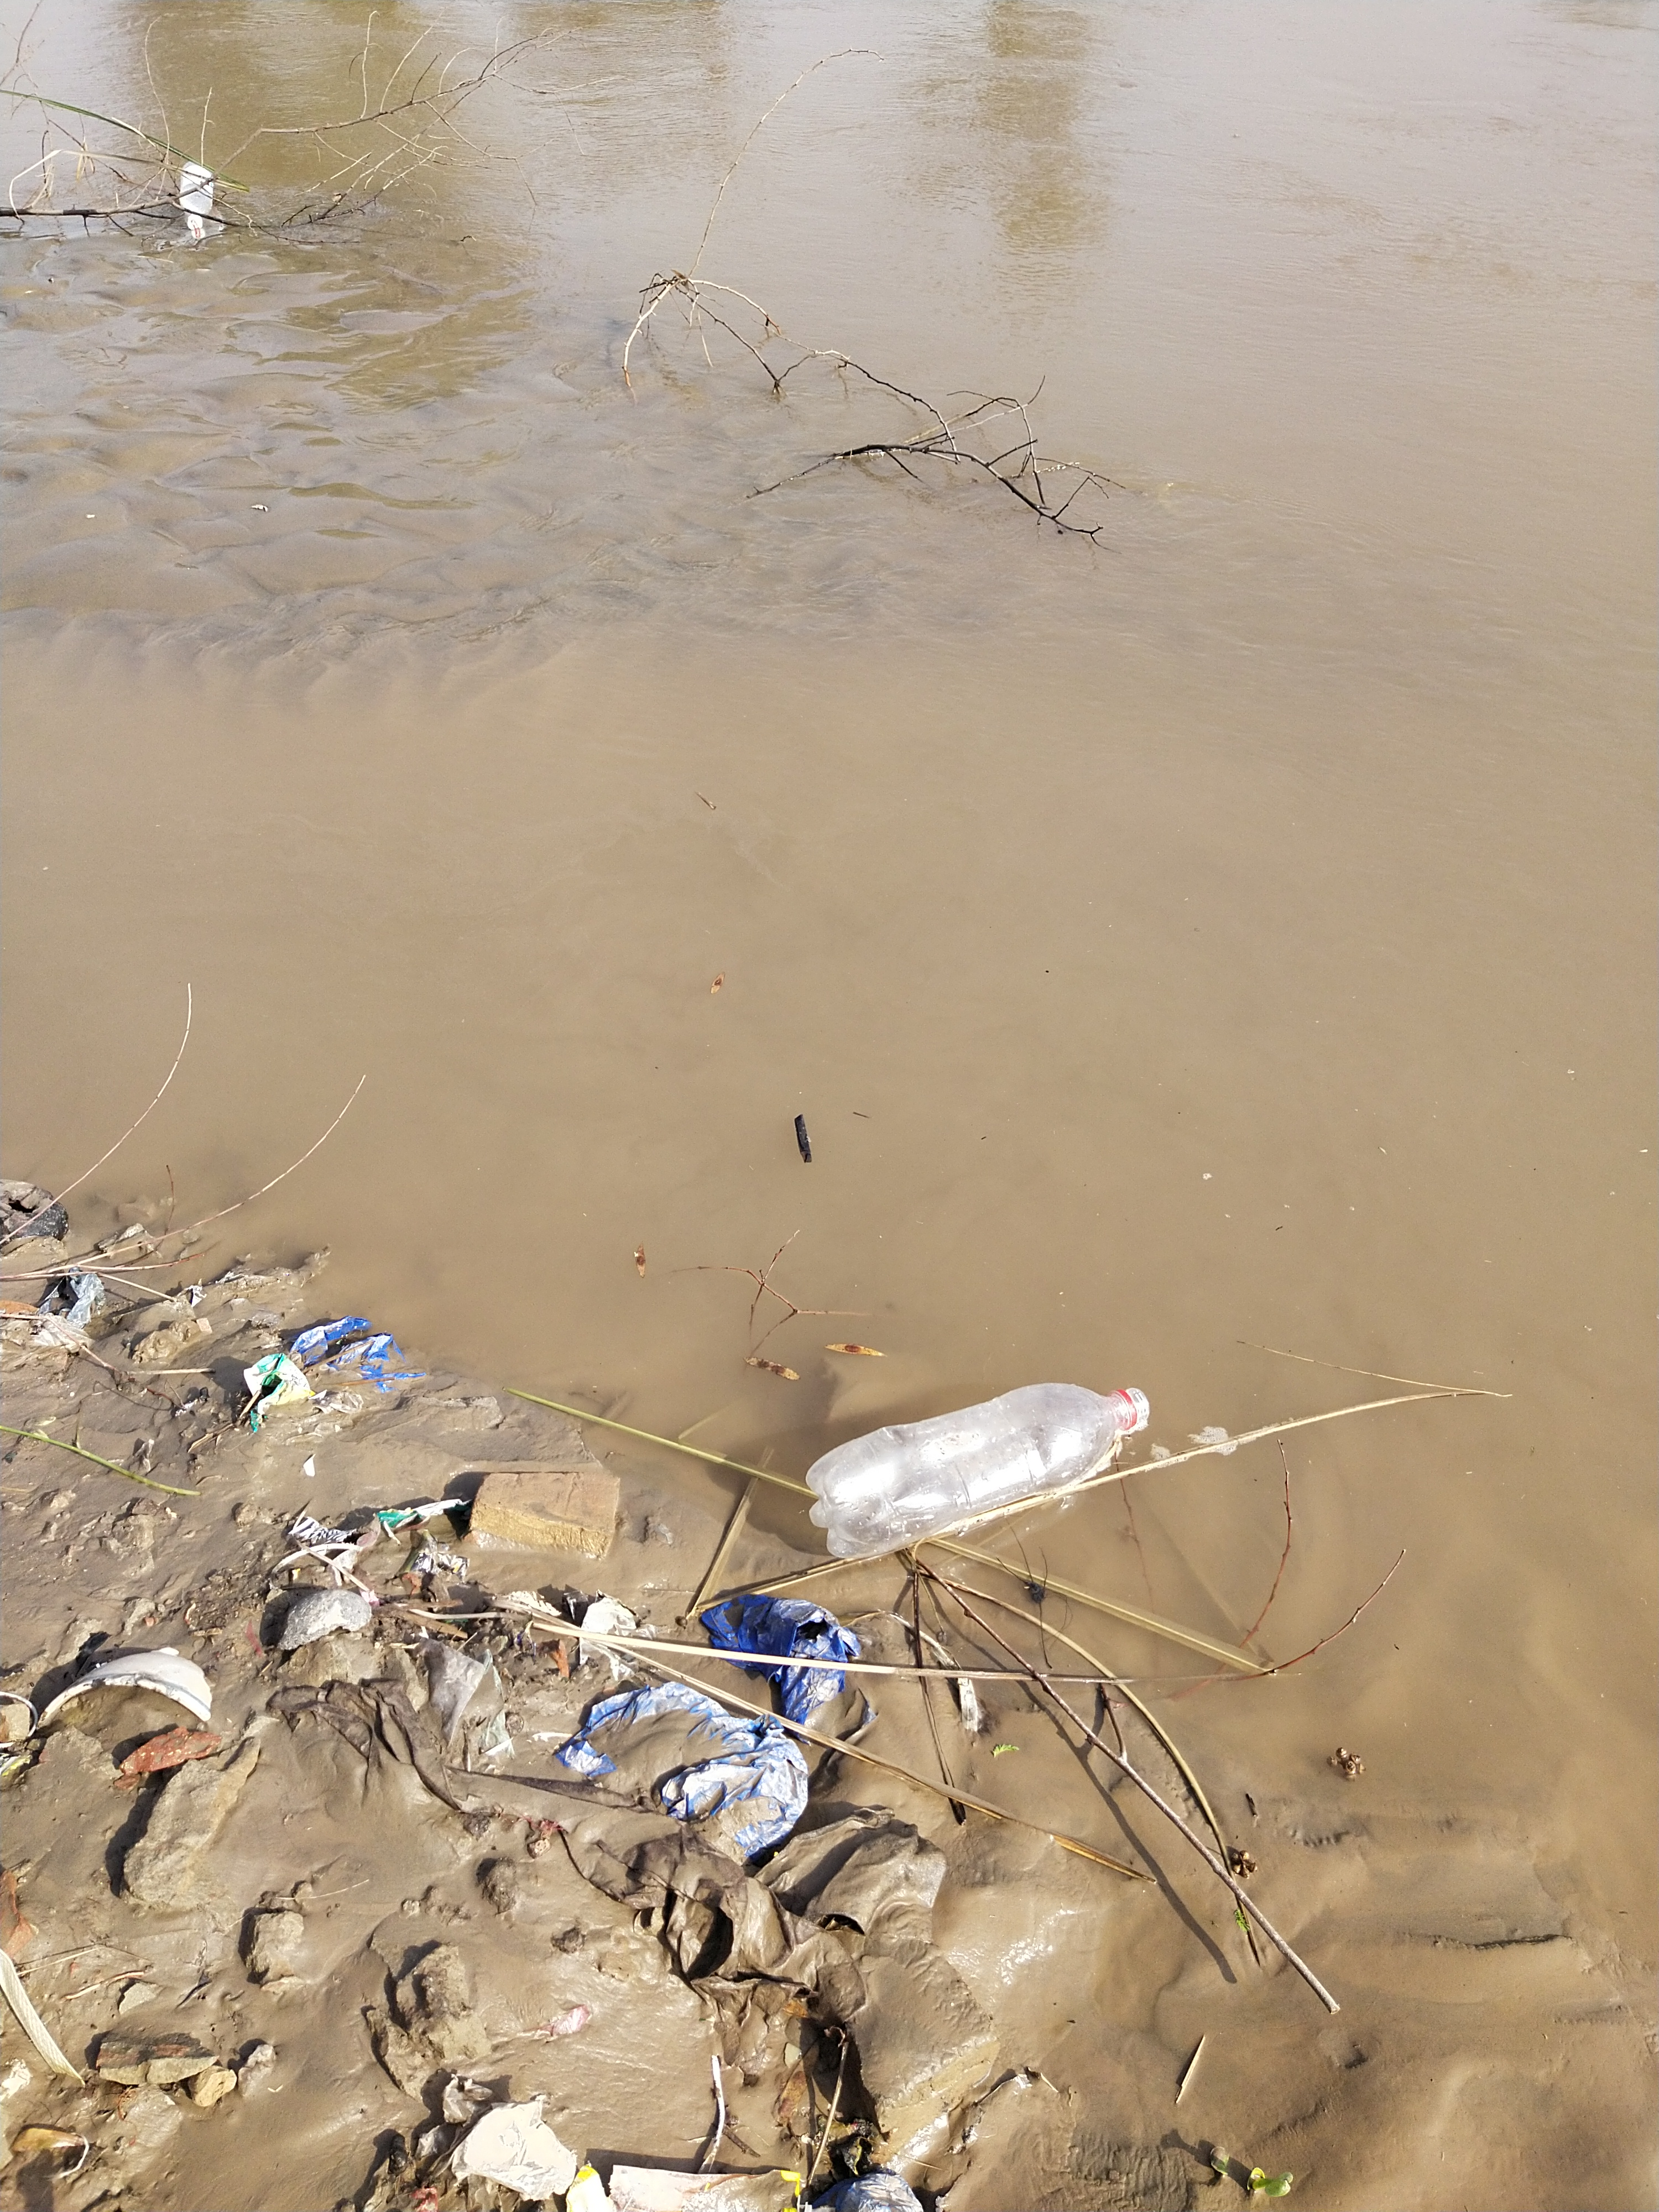Plastic Bottle: (805, 1381, 1150, 1559), (179, 162, 213, 230)
